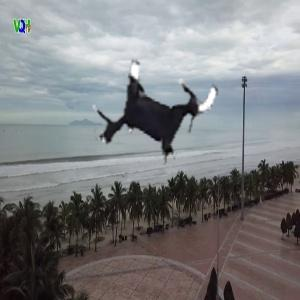drone: (84, 38, 225, 179)
